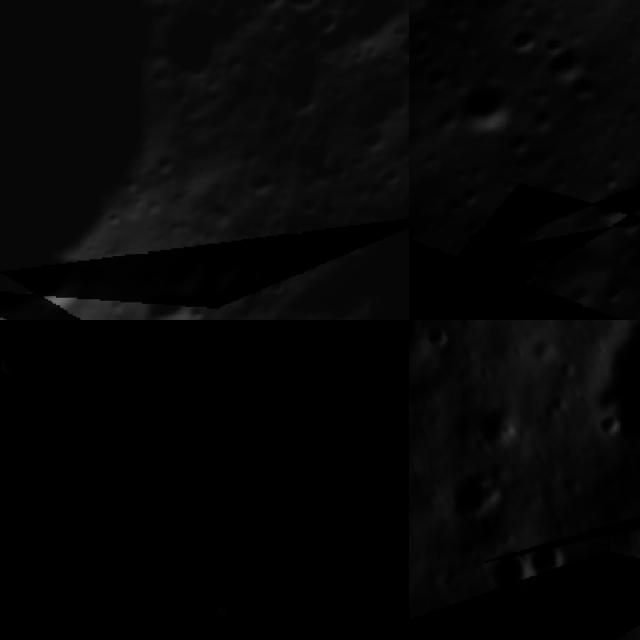crater: (113, 320, 267, 448), (299, 526, 409, 640), (189, 543, 287, 640), (170, 438, 267, 535), (331, 489, 409, 593), (576, 320, 640, 445), (440, 64, 522, 148), (509, 222, 574, 288), (441, 459, 503, 516), (0, 322, 43, 396), (223, 320, 317, 353), (480, 539, 527, 602), (587, 177, 640, 232), (466, 392, 520, 444), (527, 527, 574, 580), (499, 15, 546, 63), (0, 539, 33, 598), (31, 604, 83, 640), (314, 3, 354, 41), (274, 0, 340, 21), (394, 17, 409, 80), (427, 305, 478, 320)
